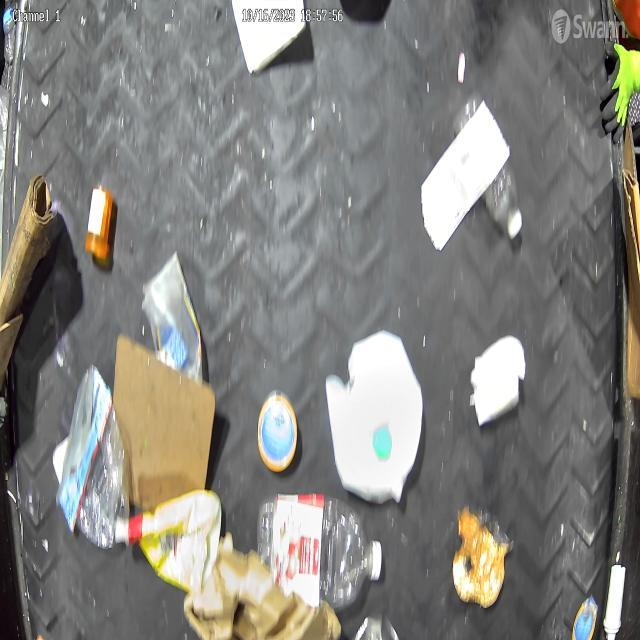milk_jug: (326, 332, 424, 505)
non_white_jug: (114, 489, 222, 592), (142, 254, 204, 378)
plastic_bottle: (258, 494, 382, 608), (60, 366, 130, 548), (452, 91, 524, 236), (256, 389, 299, 474), (3, 0, 15, 62)
